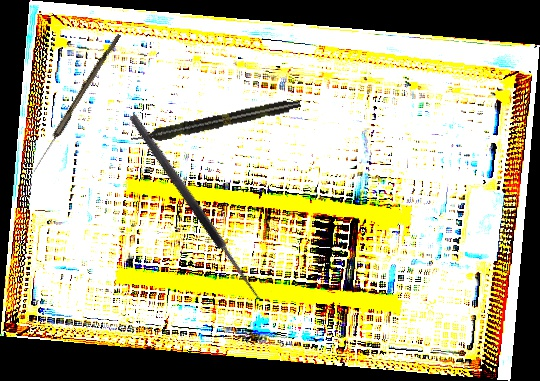Handpiece: (129, 96, 302, 147)
Hook Surgical: (126, 106, 274, 304)
Surgical Spoon: (30, 31, 122, 175)
